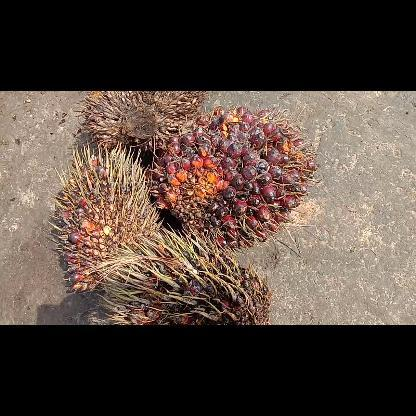Kurang masak: (78, 230, 270, 324)
TBS abnormal: (48, 145, 164, 294), (76, 94, 204, 150)
Terlalu masak: (152, 106, 314, 250)
